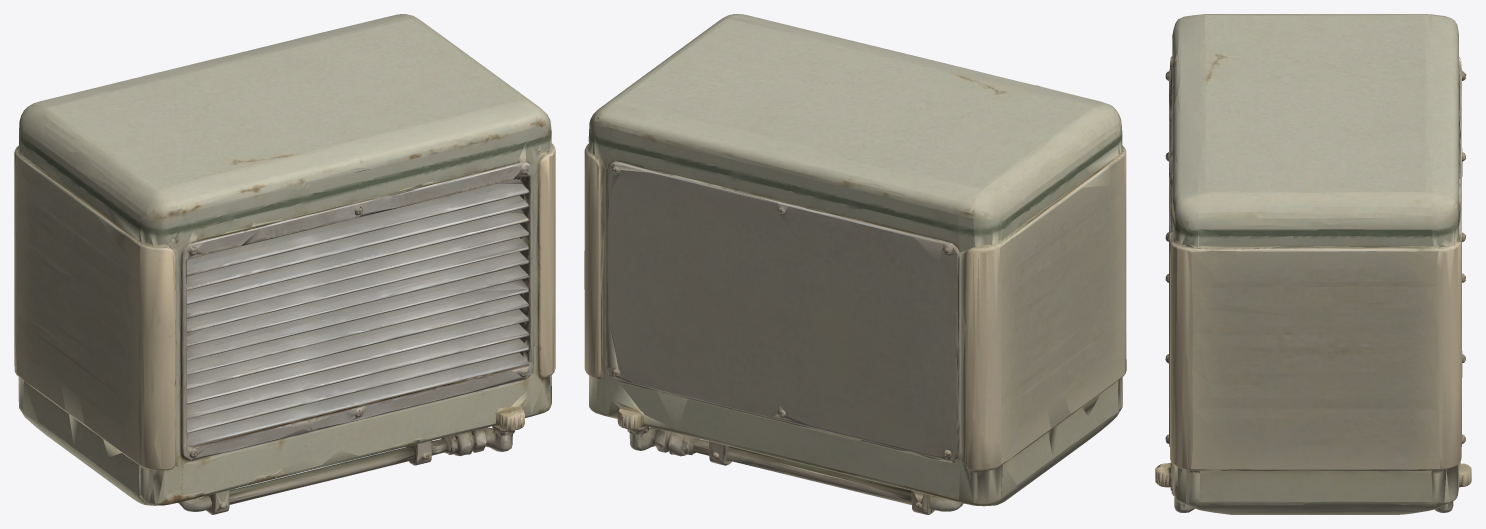
The model's file is WardRadiator.glb.
3 renders of one model, left to right at view 1: azimuth 30°, elevation 25°; view 2: azimuth 150°, elevation 25°; view 3: azimuth 270°, elevation 25°, orthographic.
Parts seen in each view (by area): view 1: tripo_node_691d6f35-e4aa-4247-88f3-79a51c2000ed; view 2: tripo_node_691d6f35-e4aa-4247-88f3-79a51c2000ed; view 3: tripo_node_691d6f35-e4aa-4247-88f3-79a51c2000ed.
Part boxes in pixels (x1,y1,x2,y2): tripo_node_691d6f35-e4aa-4247-88f3-79a51c2000ed: [14, 14, 555, 514]; tripo_node_691d6f35-e4aa-4247-88f3-79a51c2000ed: [584, 14, 1126, 514]; tripo_node_691d6f35-e4aa-4247-88f3-79a51c2000ed: [1155, 14, 1471, 514].
Size of the model in its own units: 0.9773 by 0.7576 by 0.6467.
1 material, 1 textured.
